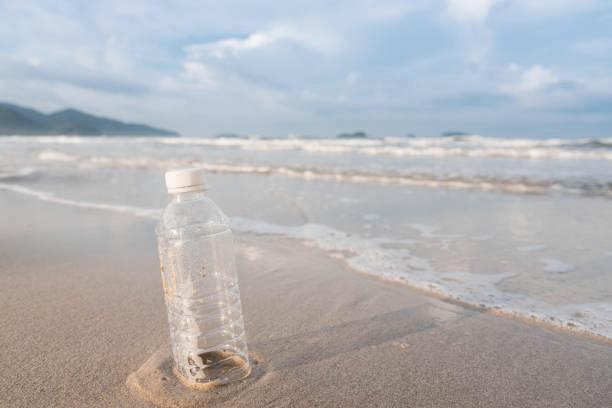Plastic: (143, 154, 266, 388)
